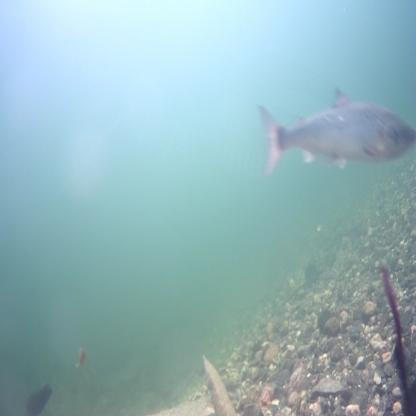salmon: (254, 81, 416, 182)
